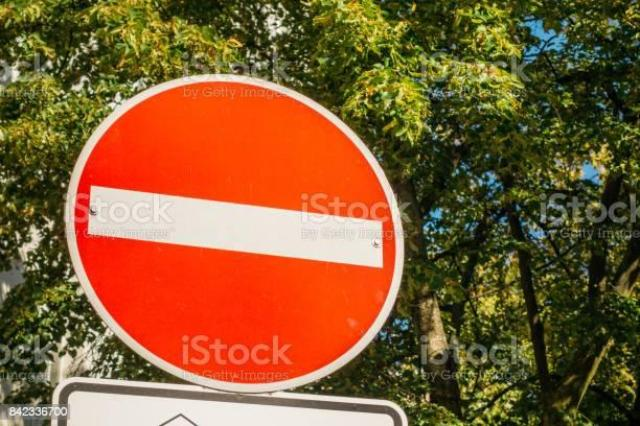B2: (62, 72, 406, 394)
